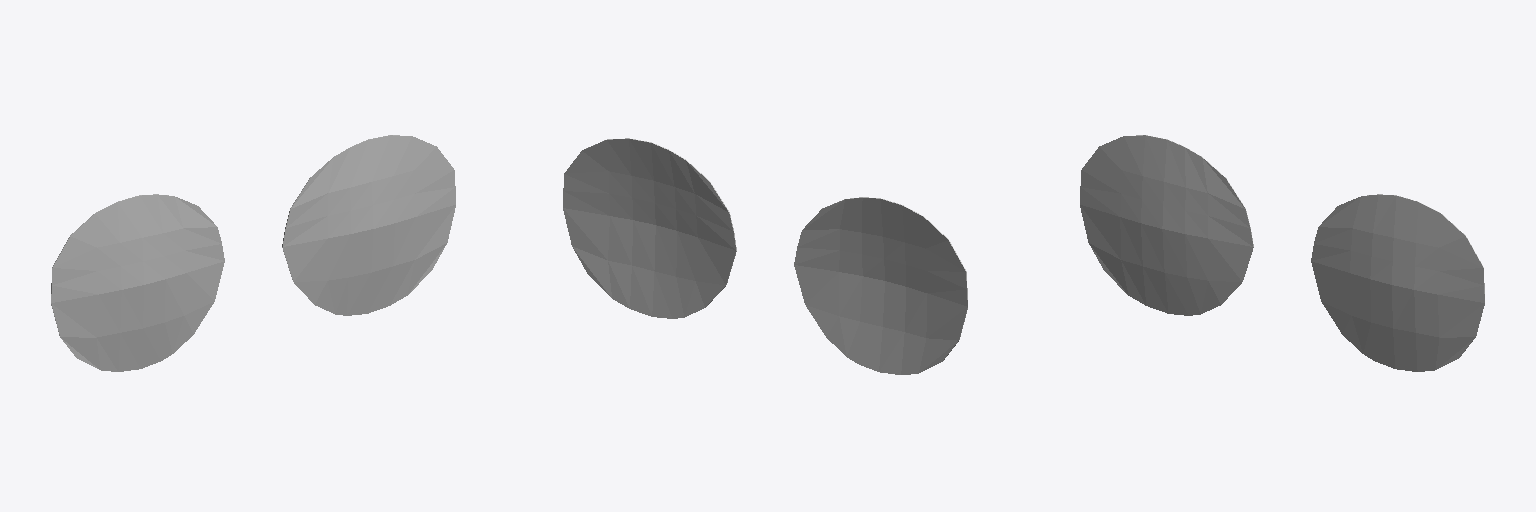
File: glasses_10_lenses.obj
3 renders of one model, left to right at view 1: azimuth 30°, elevation 25°; view 2: azimuth 150°, elevation 25°; view 3: azimuth 330°, elevation 25°, orthographic.
Visible parts, largest first — view 1: Plane; view 2: Plane; view 3: Plane.
Boxes of the visible parts, x1,y1,x2,y2 form: Plane: [51, 135, 455, 371]; Plane: [563, 138, 967, 374]; Plane: [1080, 135, 1484, 371].
Size of the model in its own units: 0.1383 by 0.0567 by 0.0035.